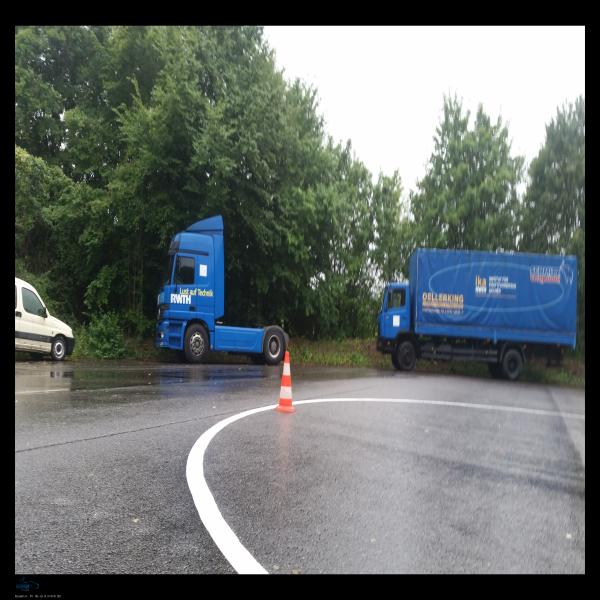large_orange_cone: (274, 352, 297, 412)
